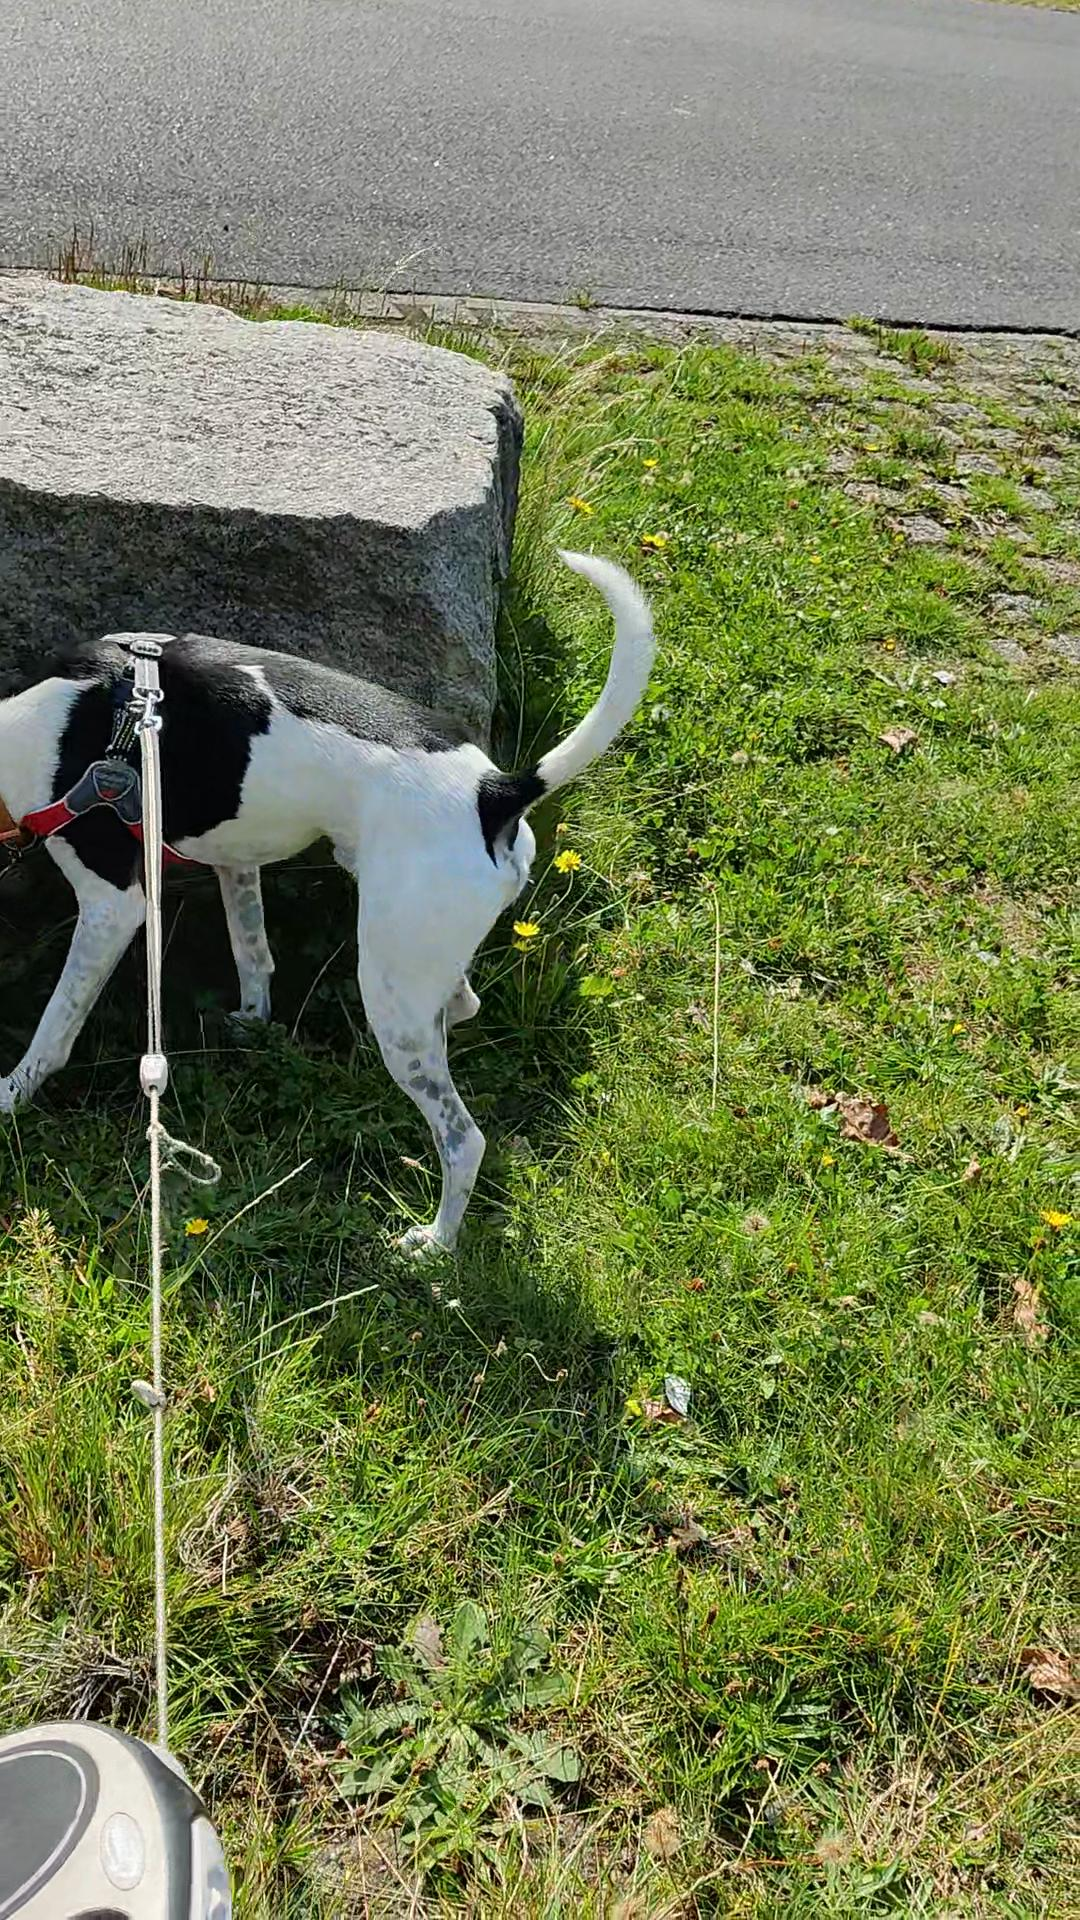Dog: (0, 541, 666, 1261)
